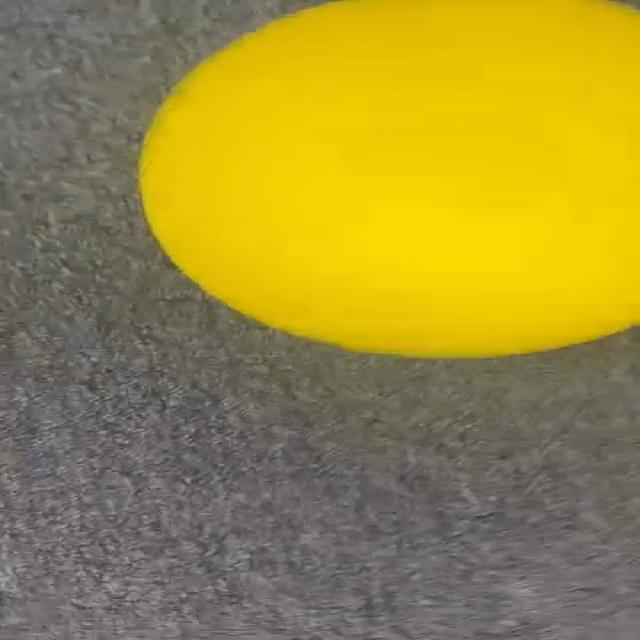Fuels: (142, 0, 638, 356)
